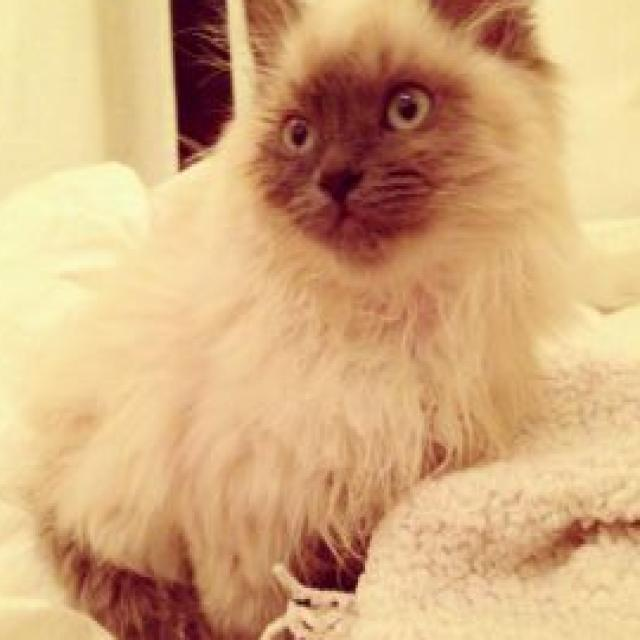Birman: (21, 0, 576, 640)
